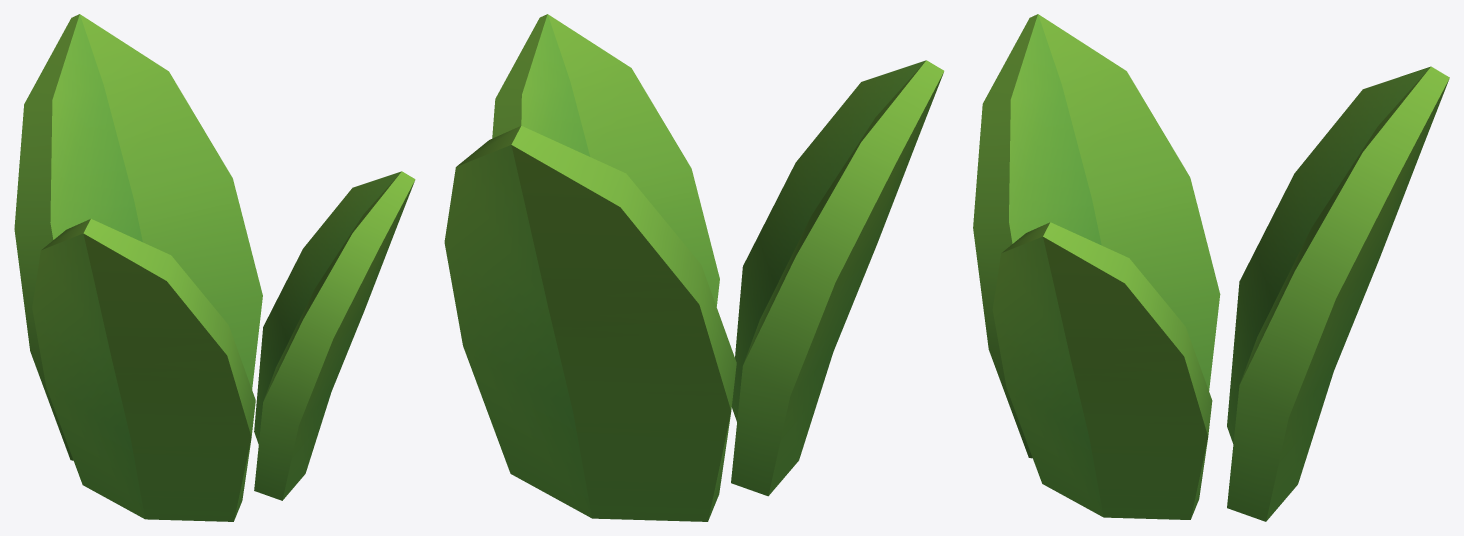
Rendered from Grass1B.glb.
The picture shows the model from 3 angles, left to right: view 1: azimuth 30°, elevation 25°; view 2: azimuth 150°, elevation 25°; view 3: azimuth 270°, elevation 25°; orthographic projection. The views are drawn at different scales.
Visible parts, largest first — view 1: Grass_1_B_Color1; view 2: Grass_1_B_Color1; view 3: Grass_1_B_Color1.
Part boxes in pixels (x1,y1,x2,y2): Grass_1_B_Color1: [14, 14, 415, 521]; Grass_1_B_Color1: [444, 14, 944, 521]; Grass_1_B_Color1: [973, 14, 1449, 521].
Bounding box in the file's own units: 0.5051 × 0.5375 × 0.5557.
1 material, 1 textured.
